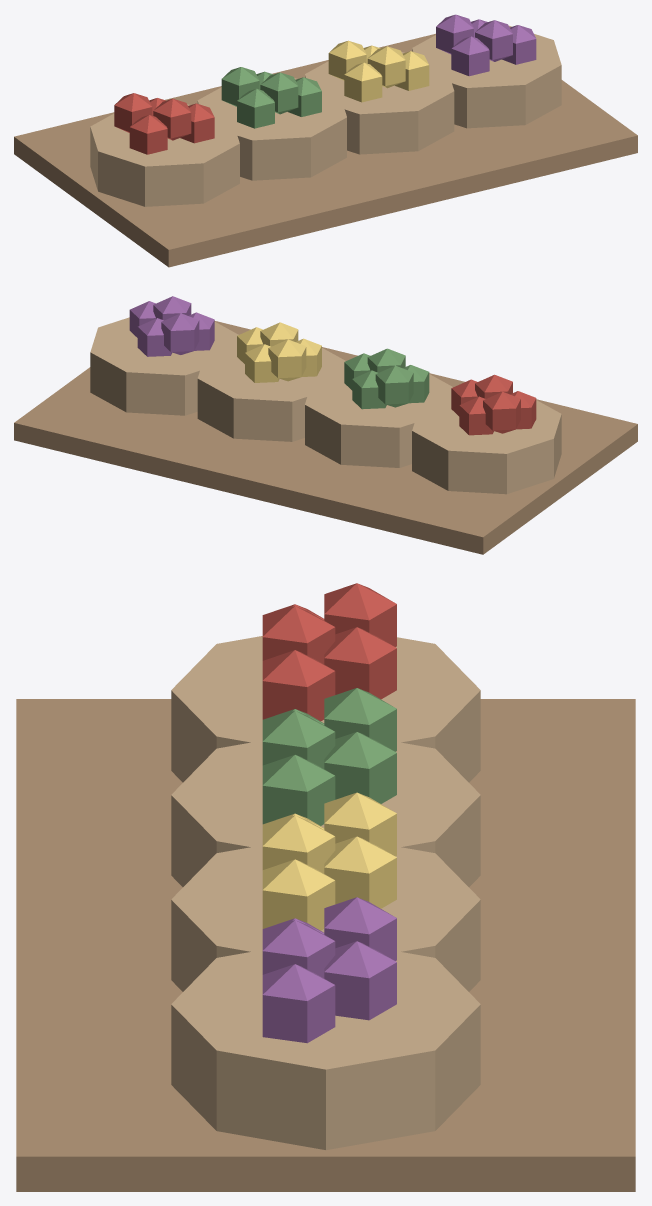
The model's file is market_goods.glb.
The picture shows the model from 3 angles, top to bottom: view 1: azimuth 30°, elevation 25°; view 2: azimuth 150°, elevation 25°; view 3: azimuth 270°, elevation 25°; orthographic projection. The views are drawn at different scales.
Parts seen in each view (by area): view 1: market_goods; view 2: market_goods; view 3: market_goods.
Part boxes in pixels (x1,y1,x2,y2): market_goods: (14,14,637,267); market_goods: (14,296,637,554); market_goods: (16,583,635,1191).
Bounding box in the file's own units: 1.4 × 0.2849 × 0.8001.
